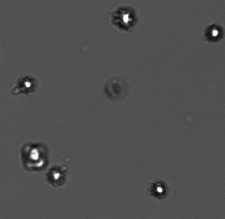Dead Cell: (104, 77, 127, 100)
Living Cell: (20, 142, 49, 172), (111, 6, 139, 31), (148, 177, 170, 199), (47, 165, 67, 188), (15, 74, 35, 95), (203, 23, 223, 43)
